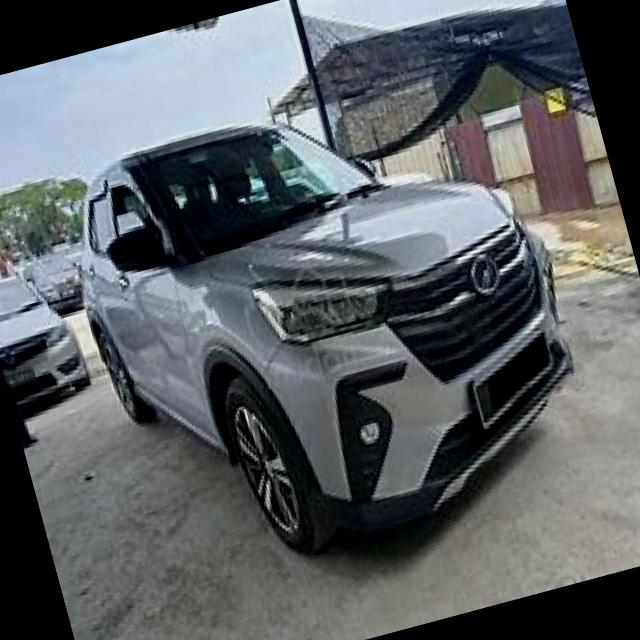PeroduaAtiva: (42, 48, 608, 598)
